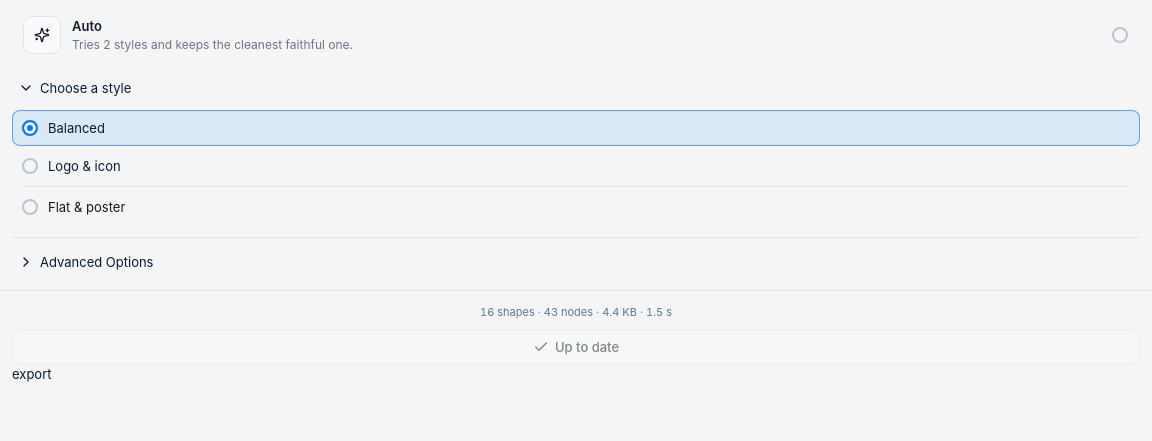
it: VectorizePanel › heads the panel, folds the advanced options and states what the trace is
Expected: the text "16 shapes · 43 nodes · 4.4 KB · 1.5 s" is shown, [480,304,672,318]
Step 1. Click the button "Advanced Options" → {"x": 97, "y": 262}, box [12,246,1140,278]
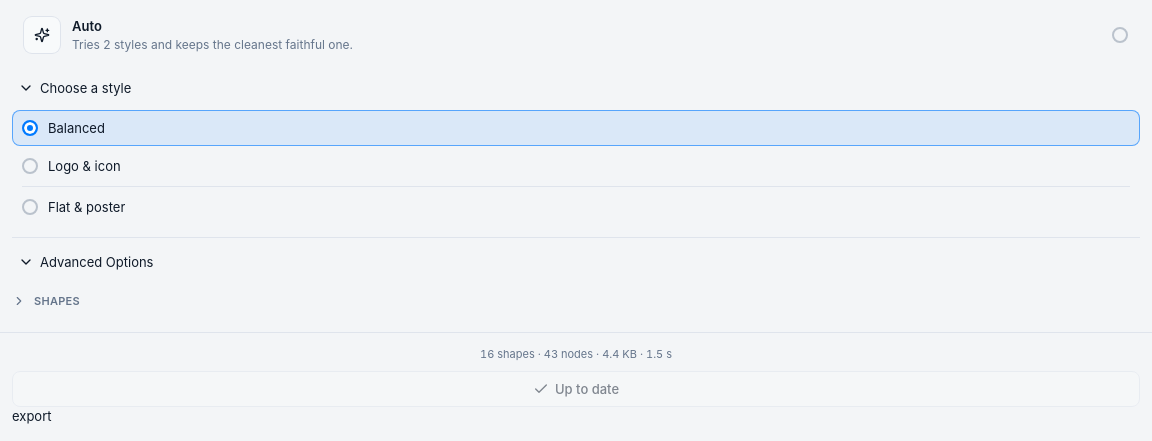
Expected: the text "export" is shown, [12,408,52,424]
Result: the text "Shapes" is shown at [34,294,80,308]
